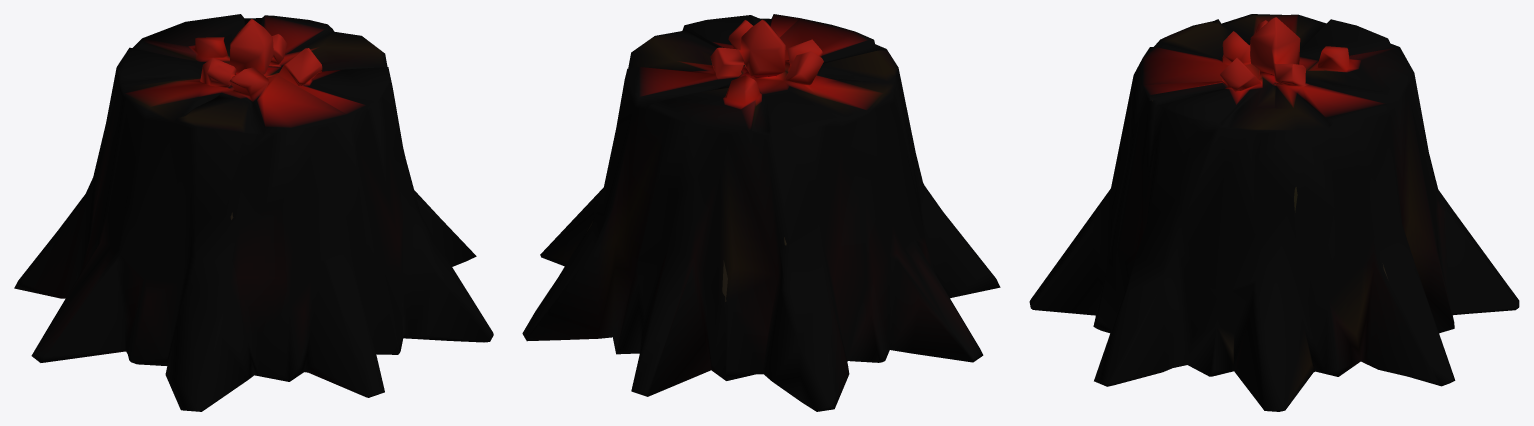
Rendered from gen3d-smoldering-stump-lod1.glb.
The picture shows the model from 3 angles, left to right: view 1: azimuth 30°, elevation 25°; view 2: azimuth 150°, elevation 25°; view 3: azimuth 270°, elevation 25°; orthographic projection.
Visible parts, largest first — view 1: part_0; view 2: part_0; view 3: part_0.
Boxes of the visible parts, x1,y1,x2,y2 form: part_0: [14, 14, 493, 411]; part_0: [522, 14, 1000, 411]; part_0: [1029, 14, 1519, 411].
Bounding box in the file's own units: 1.55 × 0.9983 × 1.51.
